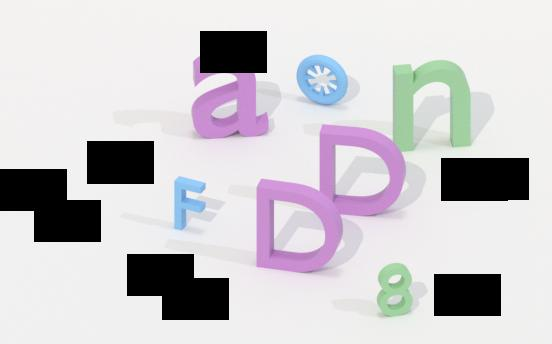8: (377, 260, 415, 320)
F: (169, 172, 211, 236)
a: (190, 45, 272, 141)
d: (251, 176, 348, 279), (317, 118, 409, 223)
n: (388, 55, 475, 154)
tron: (294, 50, 349, 108)
